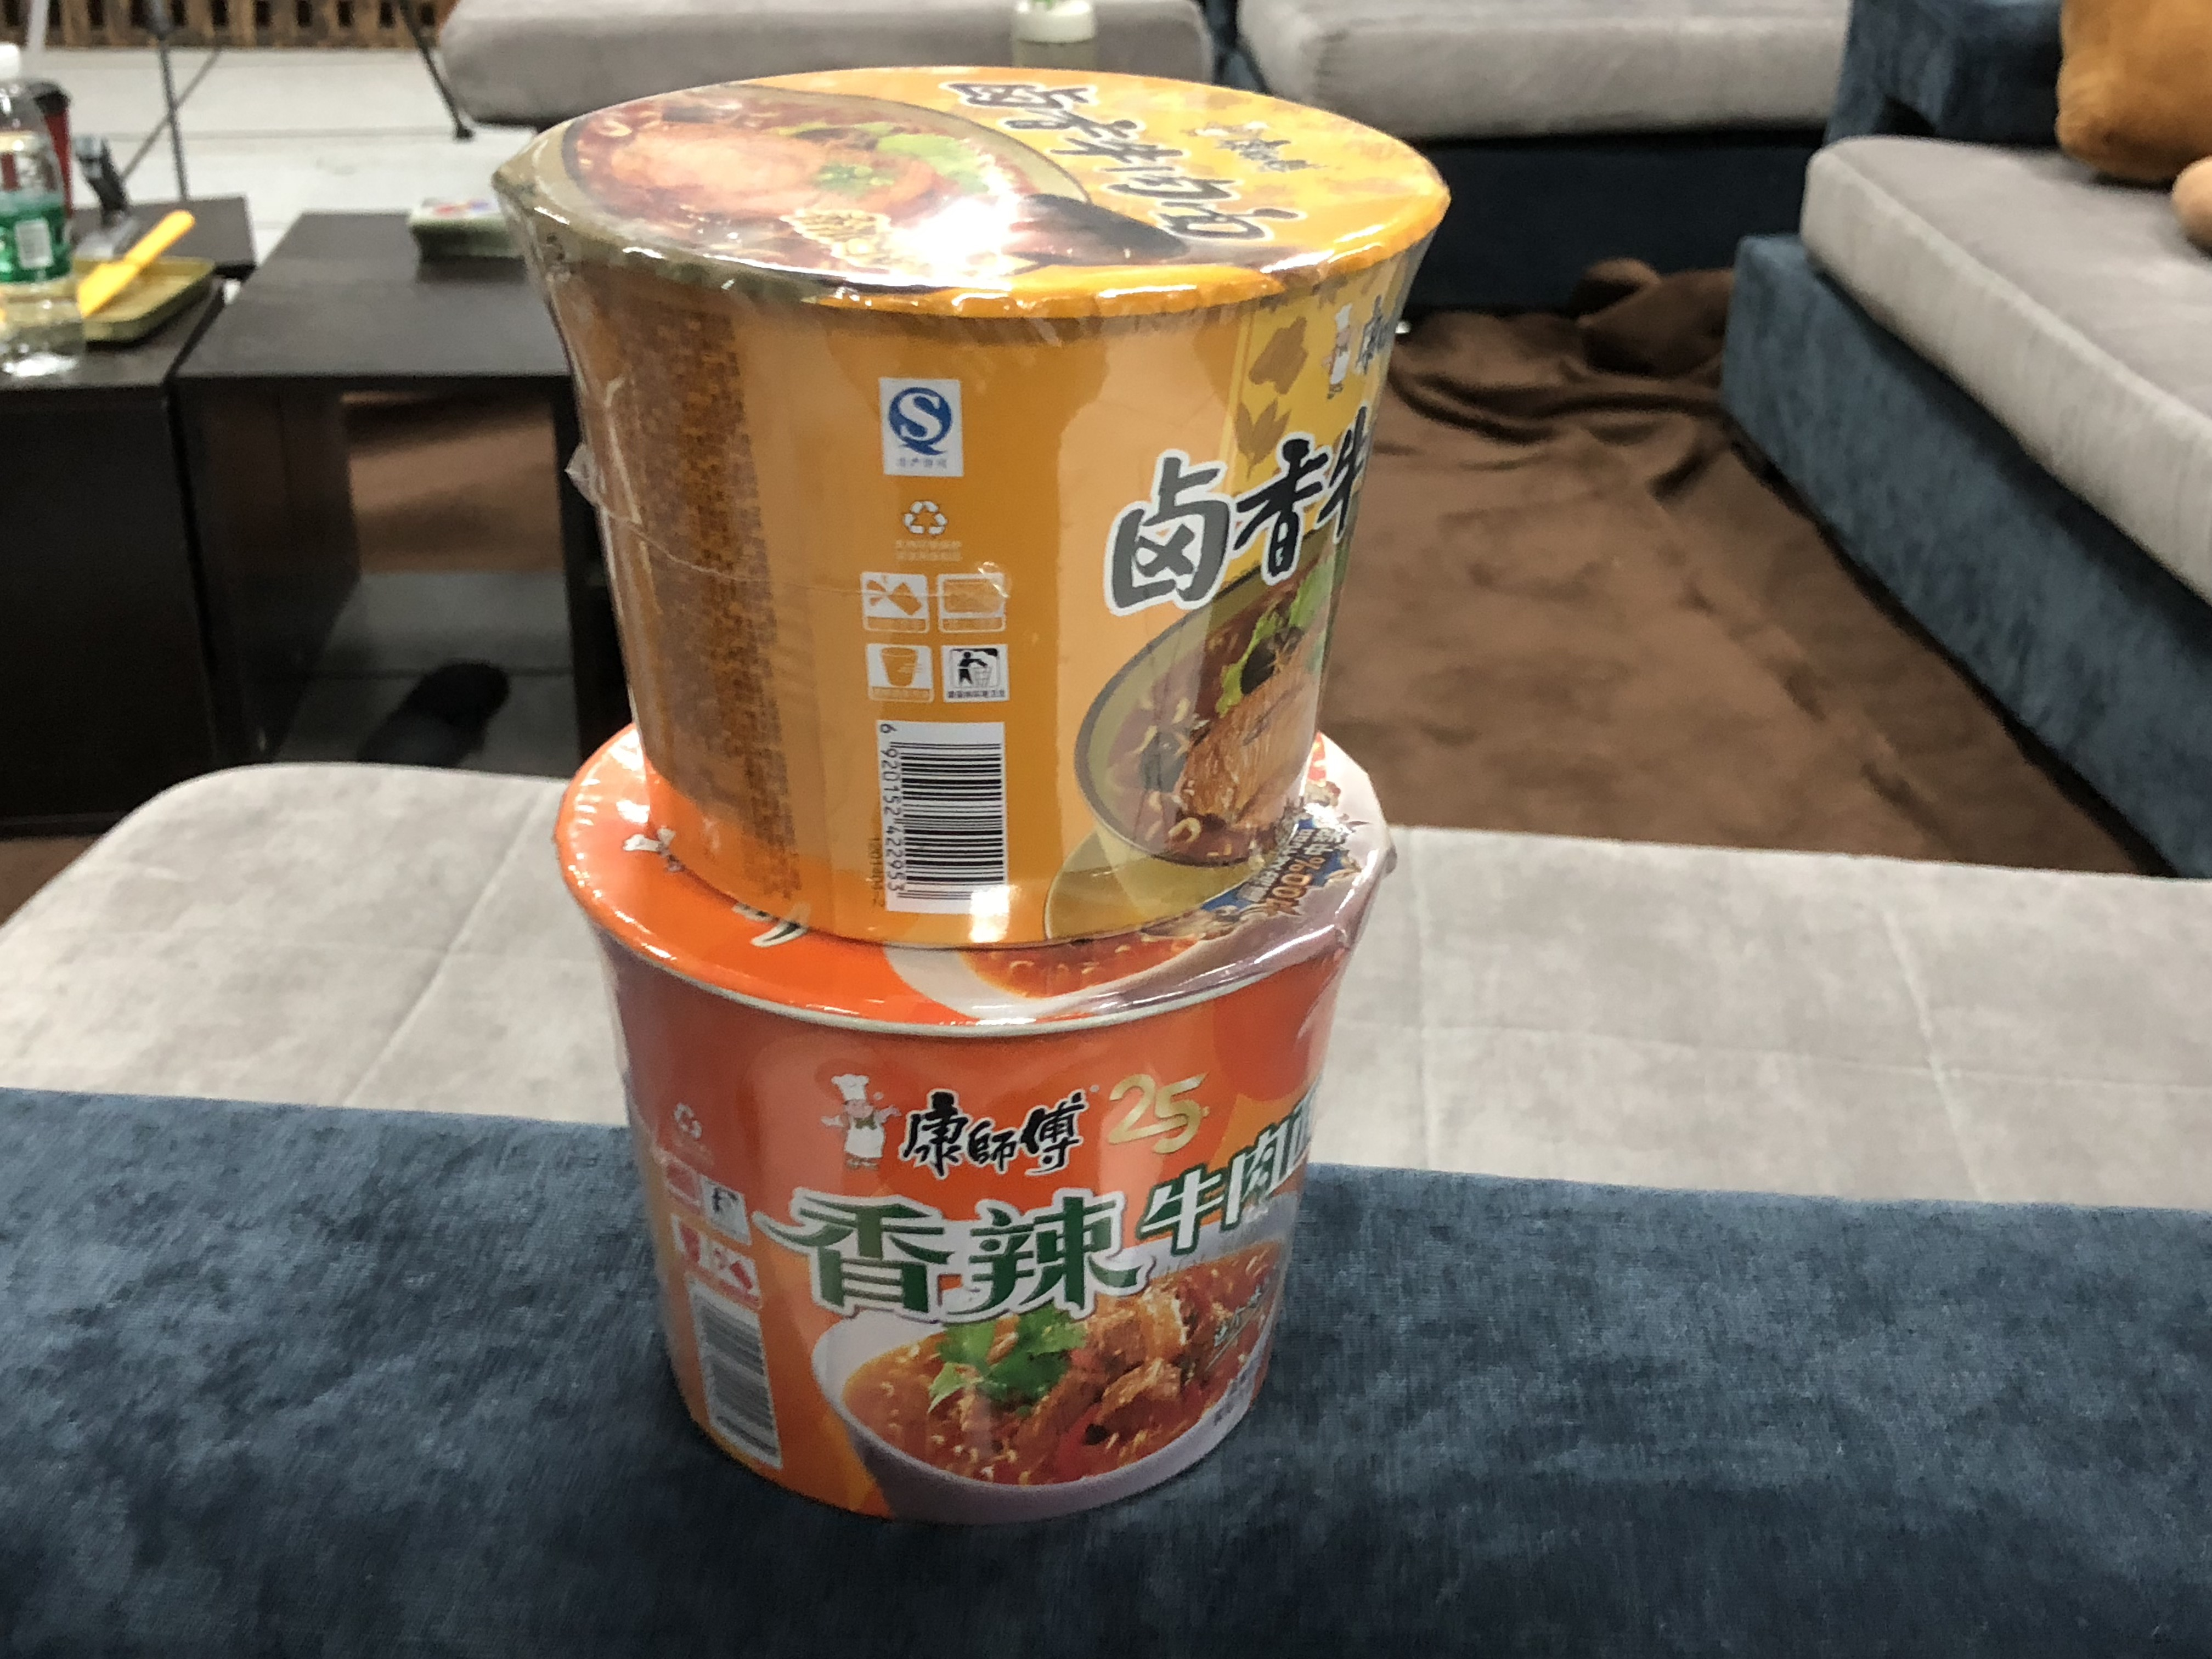luxiang: (489, 64, 1454, 951)
xiangla: (552, 713, 1402, 1530)
